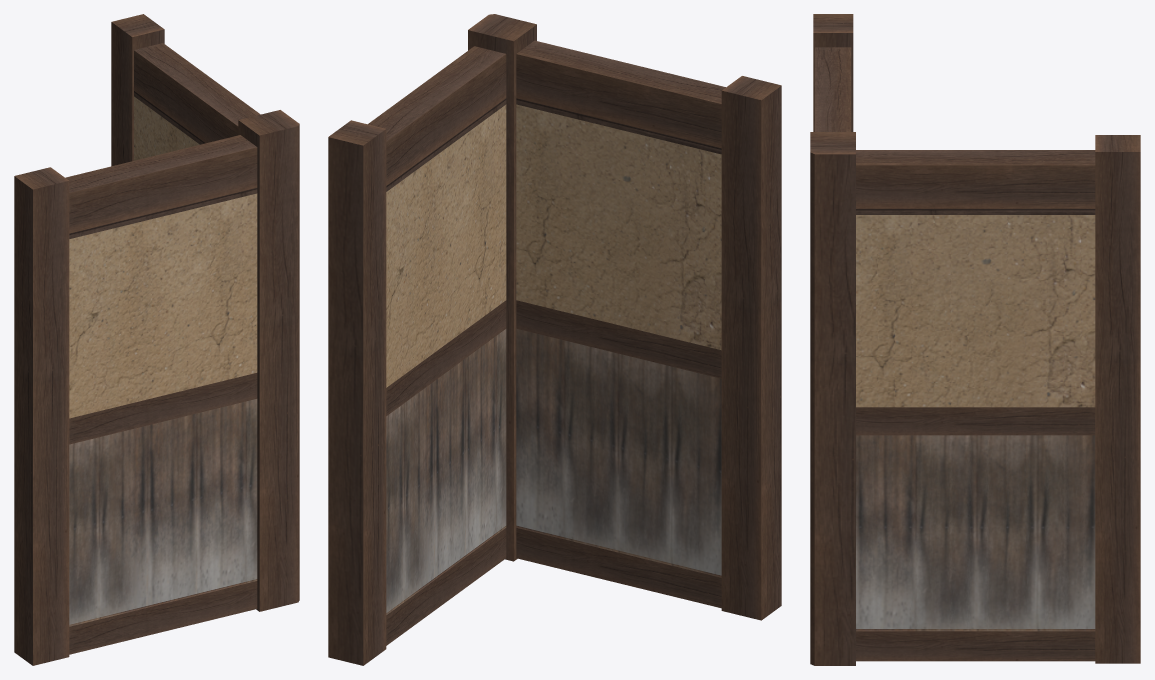
The model's file is fence10f_corner1.fbx.
The picture shows the model from 3 angles, left to right: view 1: azimuth 30°, elevation 25°; view 2: azimuth 150°, elevation 25°; view 3: azimuth 270°, elevation 25°; orthographic projection. The views are drawn at different scales.
Parts seen in each view (by area): view 1: fence10f_corner1; view 2: fence10f_corner1; view 3: fence10f_corner1.
Boxes of the visible parts, x1,y1,x2,y2 form: fence10f_corner1: (14, 14, 299, 665); fence10f_corner1: (328, 14, 781, 665); fence10f_corner1: (810, 14, 1140, 665).
Bounding box in the file's own units: 156 × 266 × 155.
